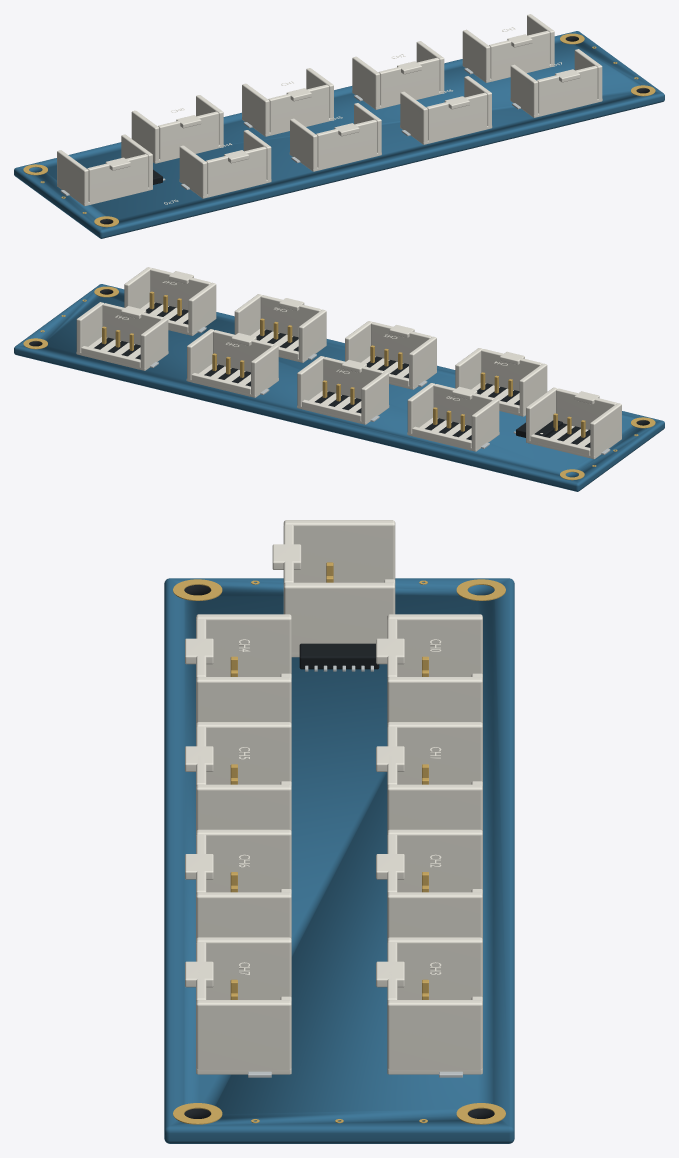
File: grove-mux.glb
3 views of the same model, one above another, from view 1: azimuth 30°, elevation 25°; view 2: azimuth 150°, elevation 25°; view 3: azimuth 270°, elevation 25° (orthographic). The views are drawn at different scales.
Visible parts, largest first — view 1: grove-mux / Ceramic.001, grove-mux / Imported CAD, grove-mux / Gold.001; view 2: grove-mux / Ceramic.001, grove-mux / Imported CAD, grove-mux / Gold.001, grove-mux / Black.001; view 3: grove-mux / Ceramic.001, grove-mux / Imported CAD, grove-mux / Gold.001, grove-mux / Black.001.
Part boxes in pixels (x1,y1,x2,y2): grove-mux / Ceramic.001: (57,14,602,206); grove-mux / Imported CAD: (14,31,664,238); grove-mux / Gold.001: (23,33,655,227); grove-mux / Ceramic.001: (76,267,621,459); grove-mux / Imported CAD: (14,284,664,491); grove-mux / Gold.001: (23,286,655,480); grove-mux / Black.001: (94,302,590,447); grove-mux / Ceramic.001: (185,520,482,1074); grove-mux / Imported CAD: (164,578,514,1143); grove-mux / Gold.001: (173,562,505,1124); grove-mux / Black.001: (299,643,379,669).
Size of the model in its own units: 82 by 6.27 by 22.
